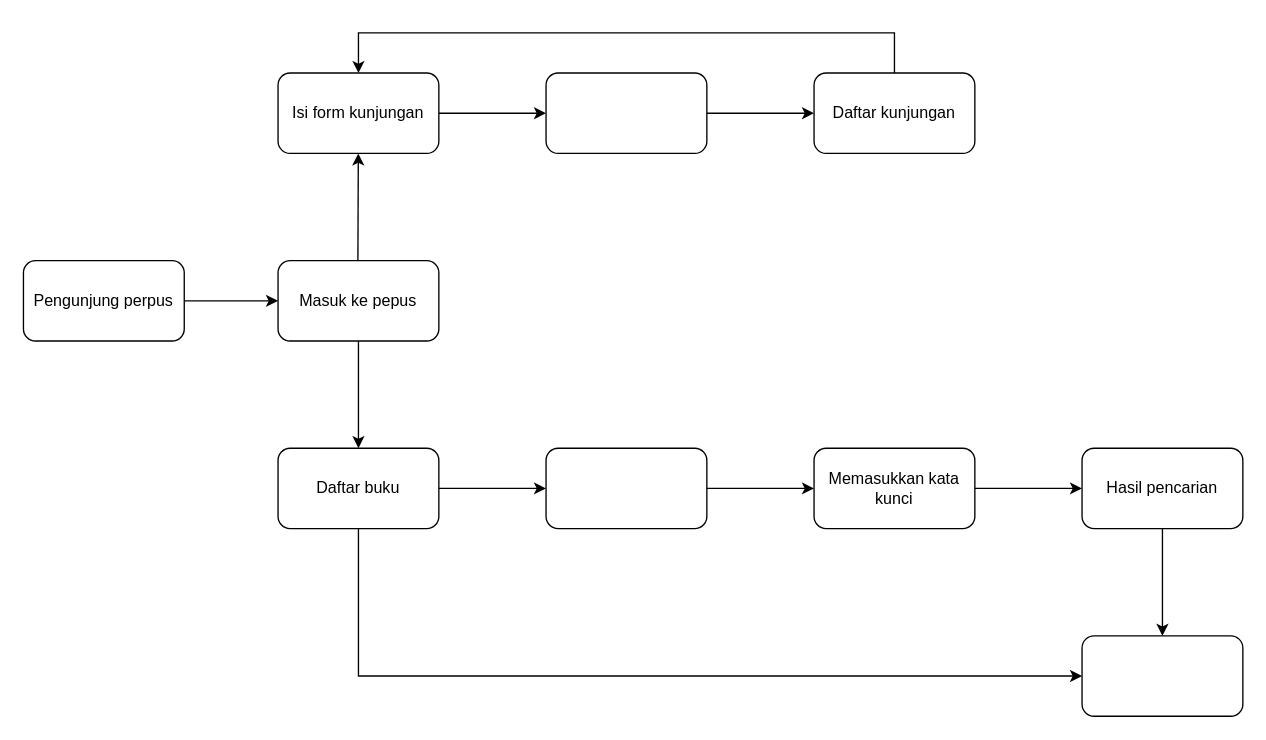
Some shapes in this 1266 by 740 pixel diagram are drawn without their labels. Each missing label, with the centre of its shape:
Detail buku: the point at 1162,675
Kirim: the point at 626,112
Pencarian: the point at 626,488
